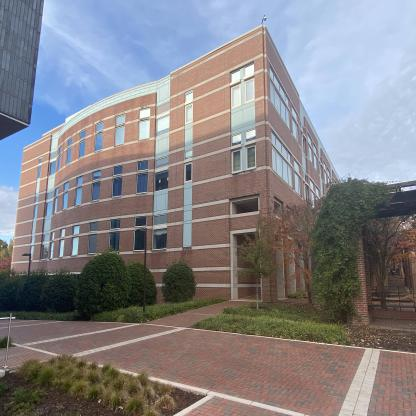EB-1: (16, 57, 344, 304)
